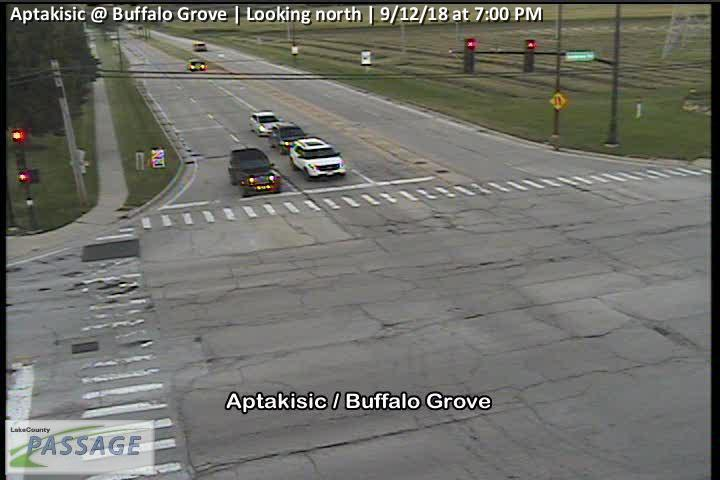SUV: (228, 148, 281, 197), (290, 140, 347, 179)
Sedan: (271, 122, 307, 151), (250, 111, 281, 138), (192, 40, 208, 51)
